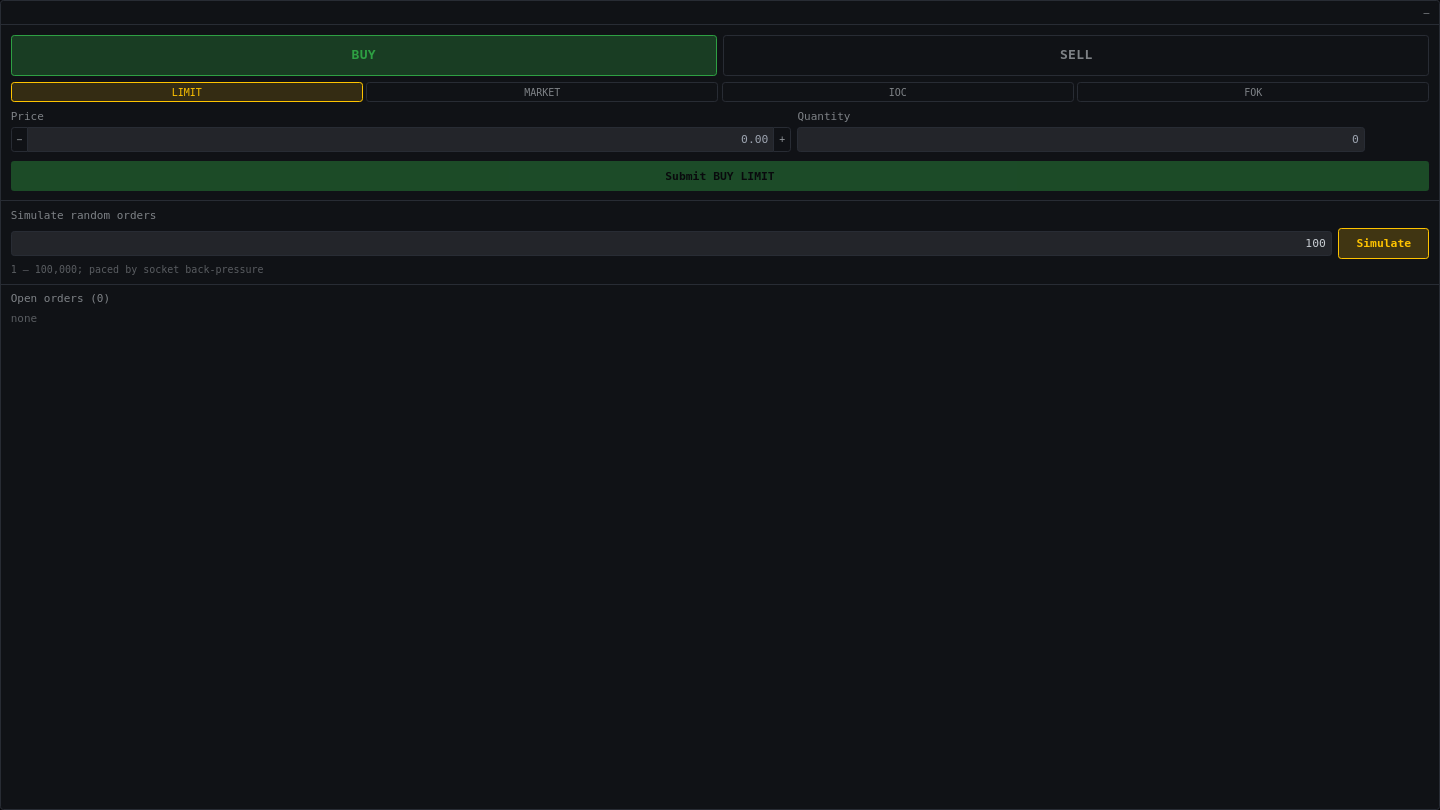
Test: OrderEntry › submit is disabled until price and quantity are valid
Expected: the button "Submit BUY LIMIT" is disabled, [11,161,1429,191]
In the field with placeholder "0.00": coordinates (401, 139) [28,127,773,152], type "100.25"
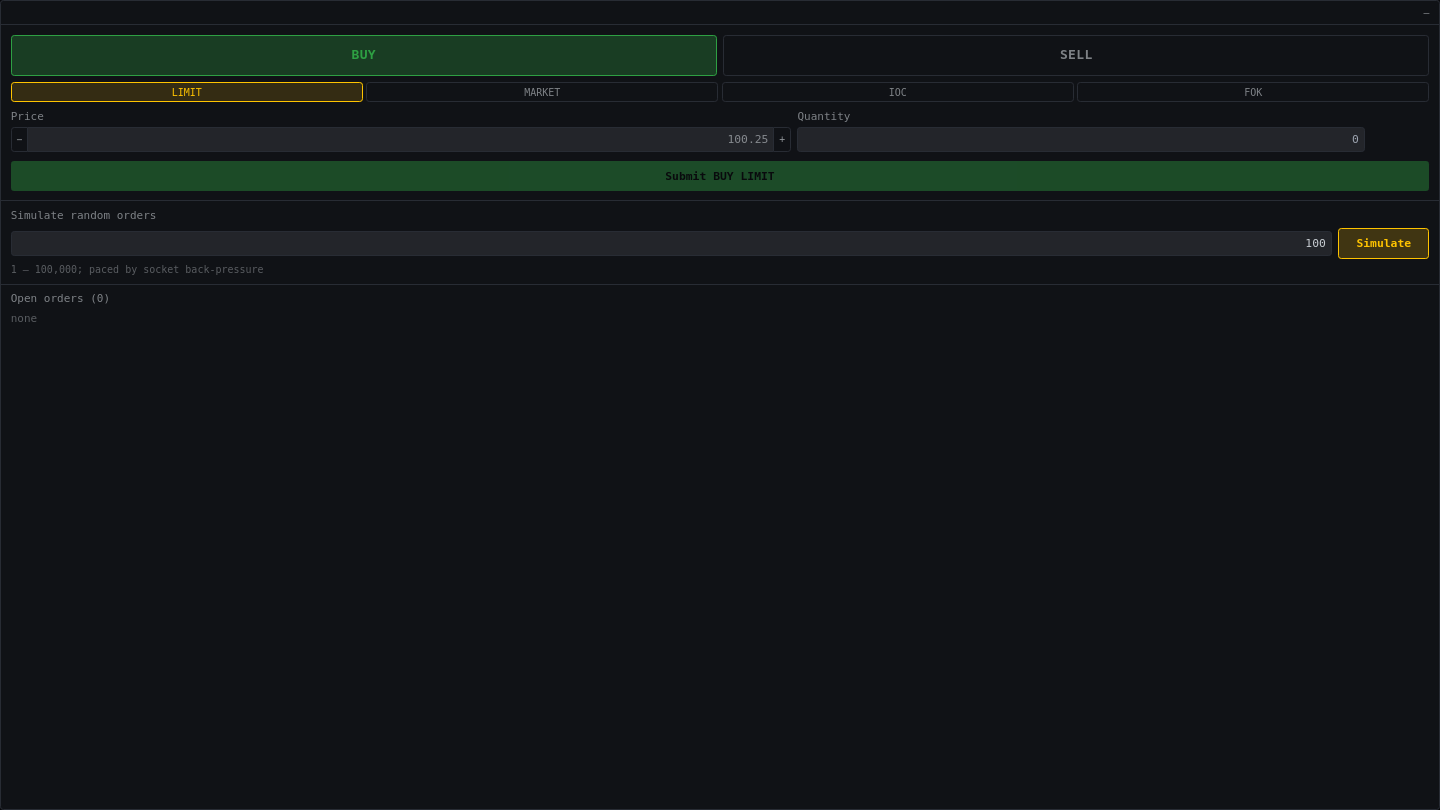
Expected: the button "Submit BUY LIMIT" is disabled, [11,161,1429,191]
In the field with placeholder "0": coordinates (1081, 139) [797,127,1365,152], type "10"
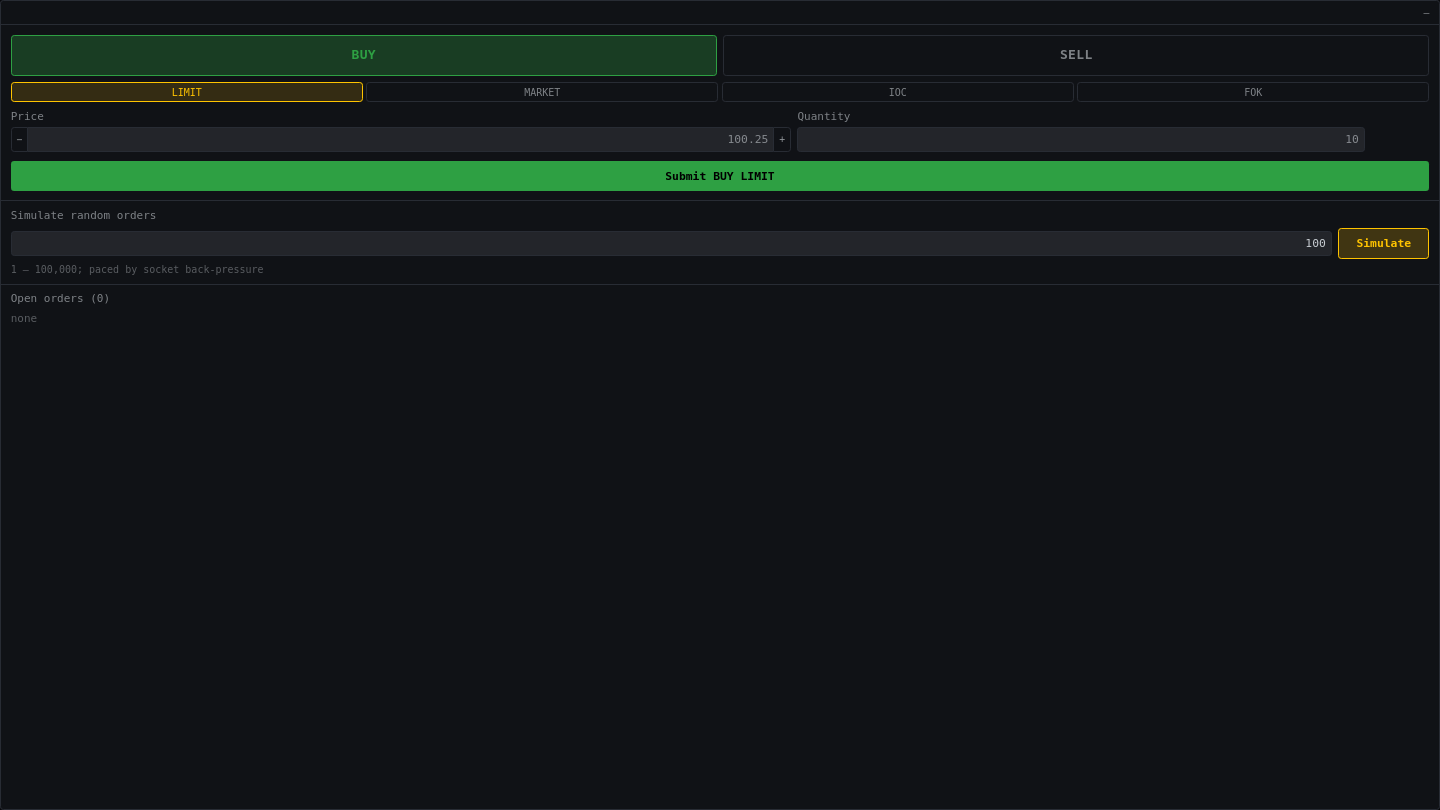
Result: the button "Submit BUY LIMIT" is enabled at [11,161,1429,191]
